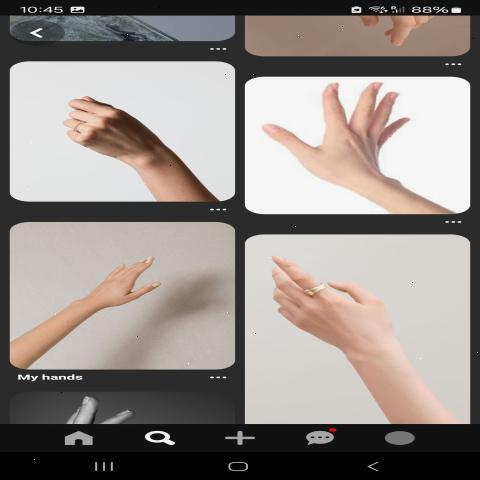Hands: (260, 244, 464, 382), (56, 65, 232, 193), (256, 79, 436, 199), (74, 225, 210, 327)
